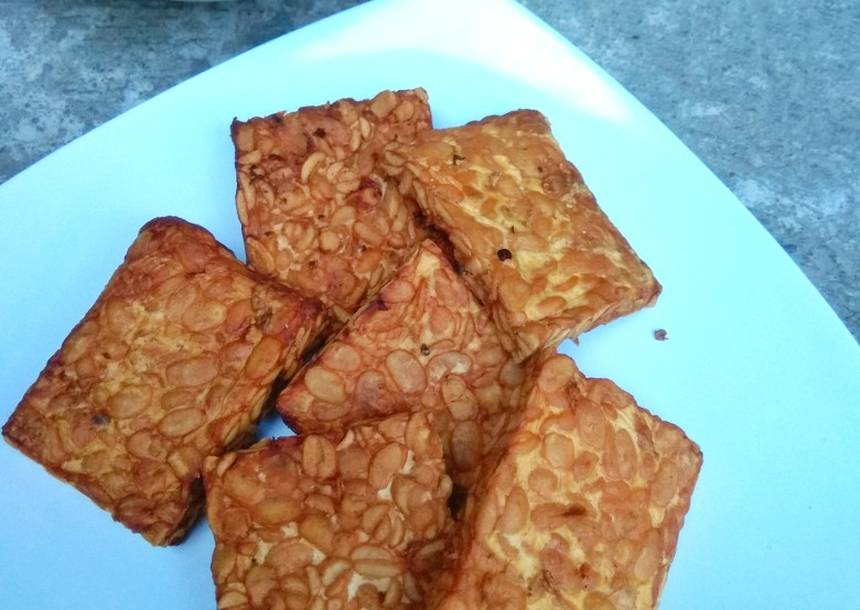Tempe: (51, 217, 299, 526), (449, 377, 705, 601), (428, 106, 607, 346), (252, 81, 415, 323), (304, 262, 458, 493), (208, 410, 407, 580)
